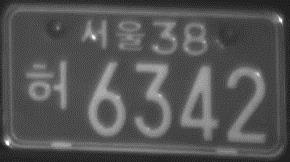2: (226, 64, 271, 147)
3: (131, 60, 175, 140), (149, 20, 179, 56)
4: (177, 62, 220, 143)
6: (85, 61, 128, 137)
8: (180, 22, 209, 56)
서울_O: (80, 18, 146, 51)
허: (23, 59, 71, 112)
